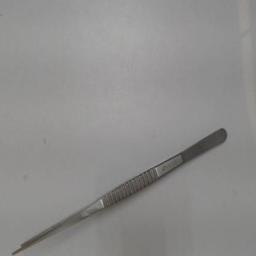DeBakey Dissector: (13, 106, 239, 256)
